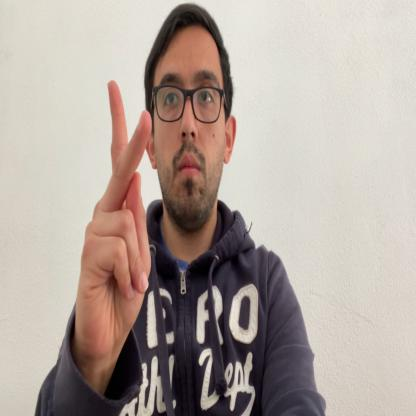P: (75, 80, 152, 376)
